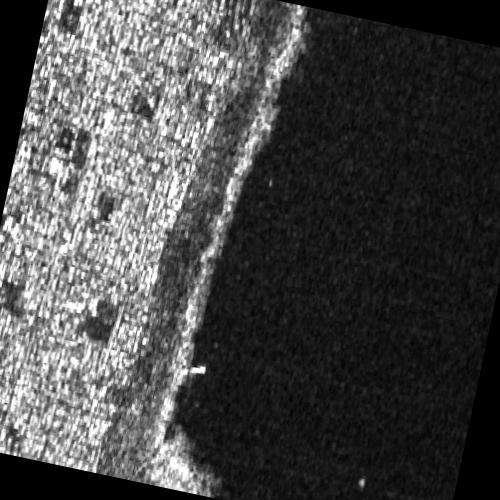ship: (187, 363, 207, 376)
